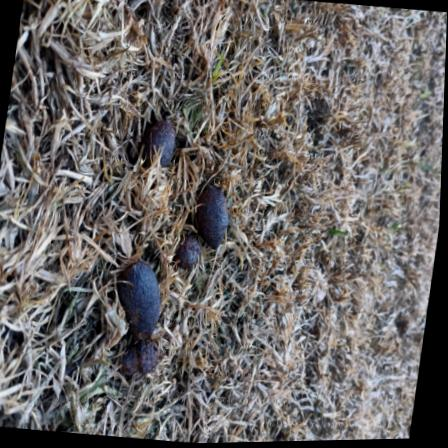dog-poop: (86, 100, 251, 400)
